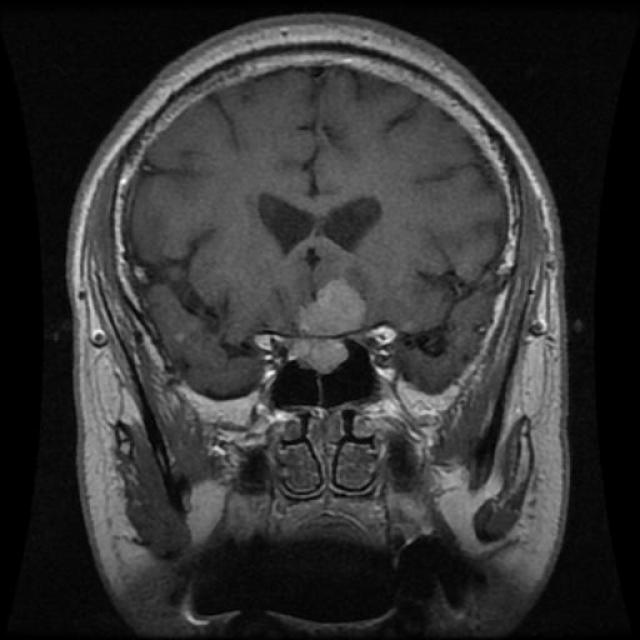Brain-Tumor: (278, 271, 378, 376)
